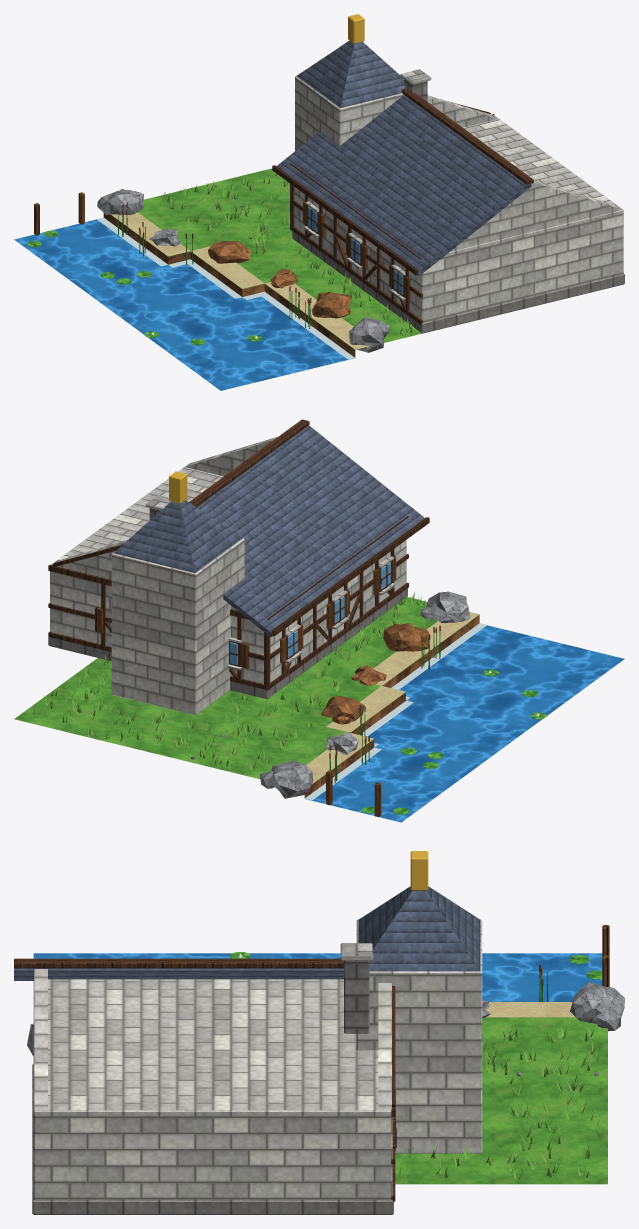
The model's file is chunk_4_12.glb.
3 views of the same model, one above another, from view 1: azimuth 30°, elevation 25°; view 2: azimuth 150°, elevation 25°; view 3: azimuth 270°, elevation 25° (orthographic). The views are drawn at different scales.
Parts seen in each view (by area): view 1: chunk_4_12; view 2: chunk_4_12; view 3: chunk_4_12.
Boxes of the visible parts, left/top/right/bottom form: chunk_4_12: left=14, top=14, right=624, bottom=390; chunk_4_12: left=14, top=419, right=624, bottom=822; chunk_4_12: left=14, top=851, right=624, bottom=1214.
Size of the model in its own units: 18.08 by 8.9 by 17.03.
Materials: 21 (16 with a texture image).
